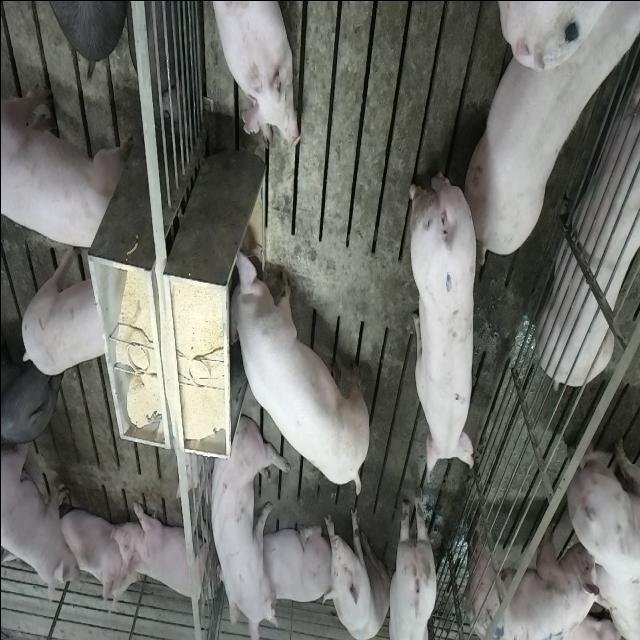Feeding: (220, 246, 366, 494)
Sitting: (202, 413, 284, 636), (324, 503, 390, 639)
Standing: (407, 160, 478, 476), (2, 75, 128, 253), (461, 507, 595, 640), (0, 434, 71, 606), (18, 243, 105, 375), (566, 436, 640, 582), (385, 485, 438, 638), (0, 329, 57, 449)
Sternal_lying: (540, 68, 640, 384), (206, 0, 298, 148), (115, 499, 215, 609), (58, 493, 138, 612), (258, 517, 330, 607)
